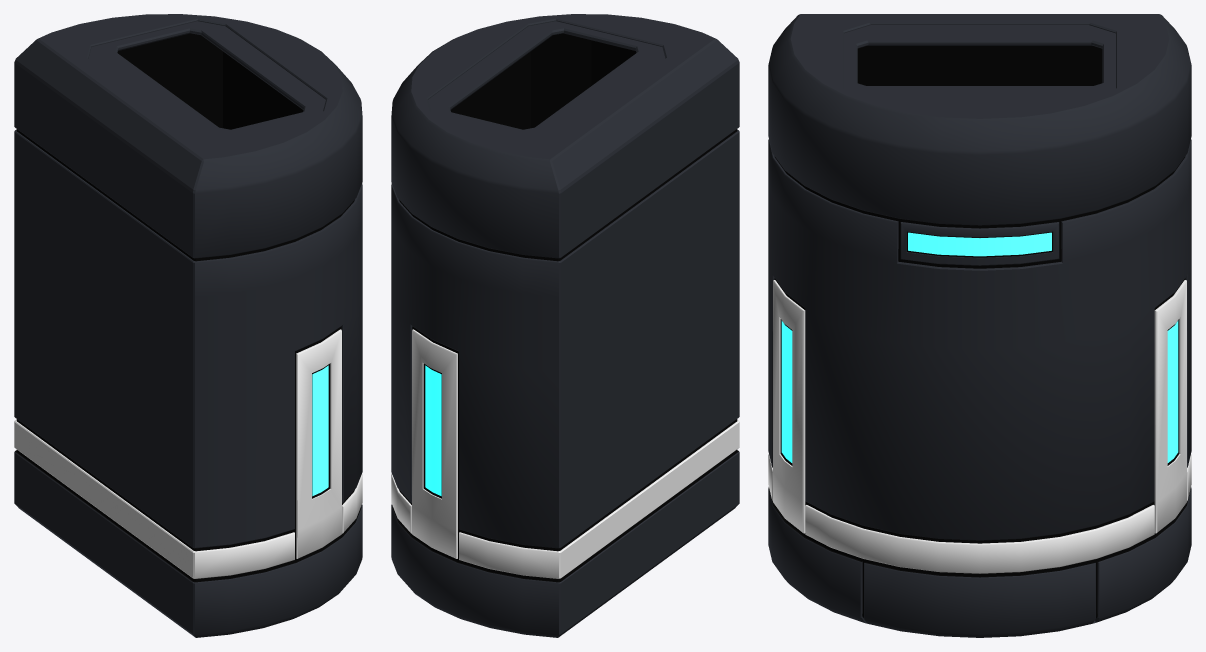
File: trash_bin.glb
3 renders of one model, left to right at view 1: azimuth 30°, elevation 25°; view 2: azimuth 150°, elevation 25°; view 3: azimuth 270°, elevation 25°, orthographic. The views are drawn at different scales.
Visible parts, largest first — view 1: SM_Trash_Bin; view 2: SM_Trash_Bin; view 3: SM_Trash_Bin.
Boxes of the visible parts, x1=… form: SM_Trash_Bin: x1=14, y1=14, x2=362, y2=637; SM_Trash_Bin: x1=391, y1=14, x2=739, y2=637; SM_Trash_Bin: x1=768, y1=14, x2=1191, y2=637.
Size of the model in its own units: 0.4148 by 0.8 by 0.6.
